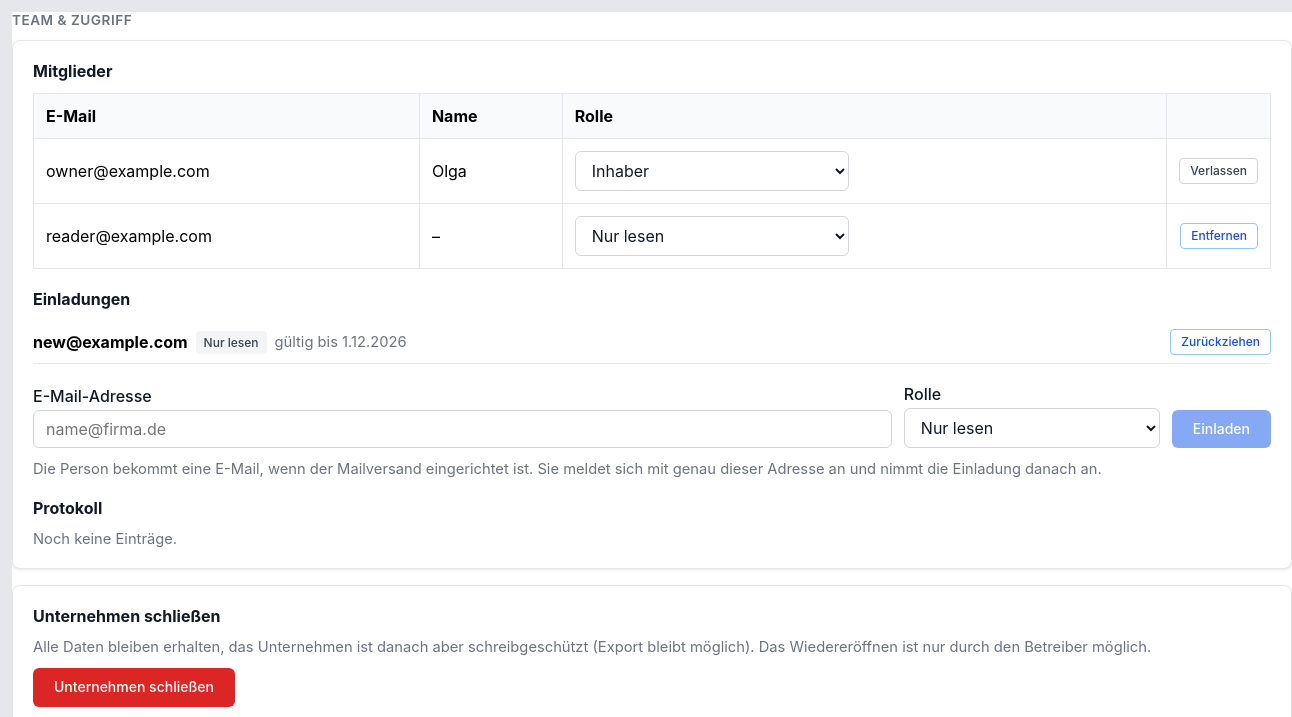
TeamSettings as an owner › confirms that the invitation mail went out
In the field labelled "E-Mail-Adresse": (462,429) [33, 410, 892, 448], type "bob@example.com"
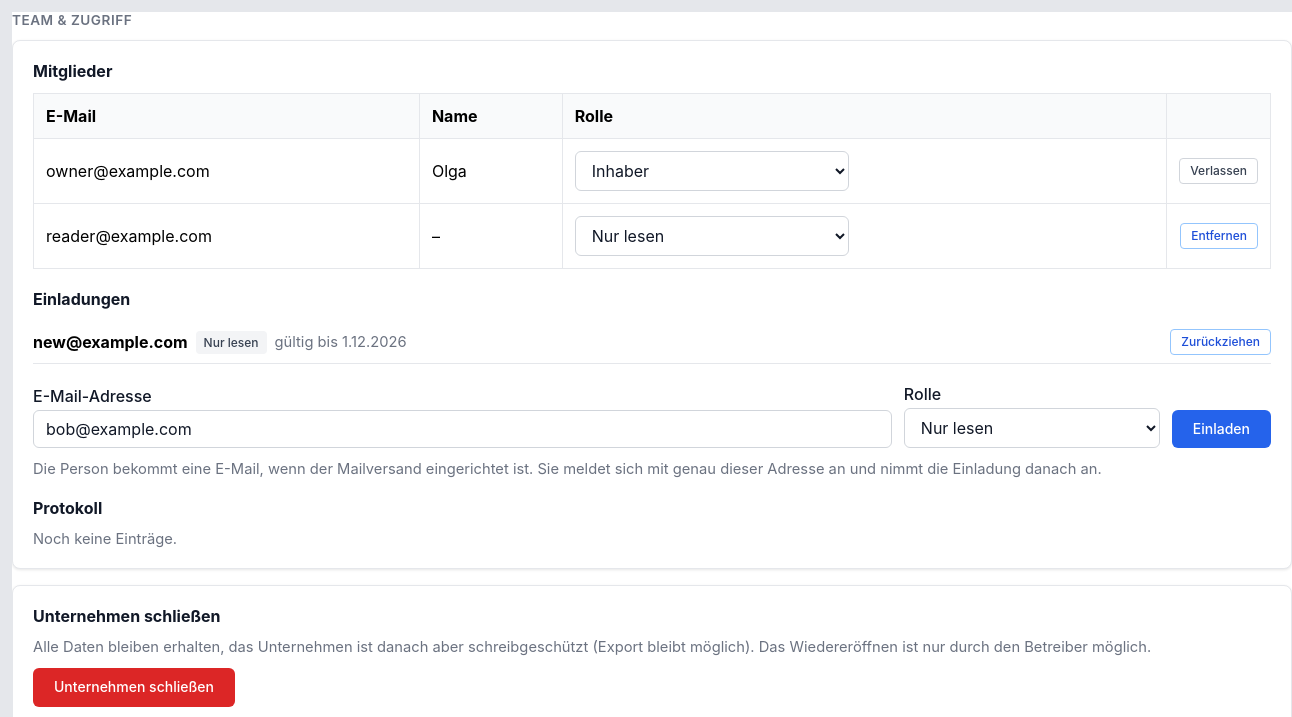
Submit the form with test id "invite-form", box [33, 384, 1271, 448]
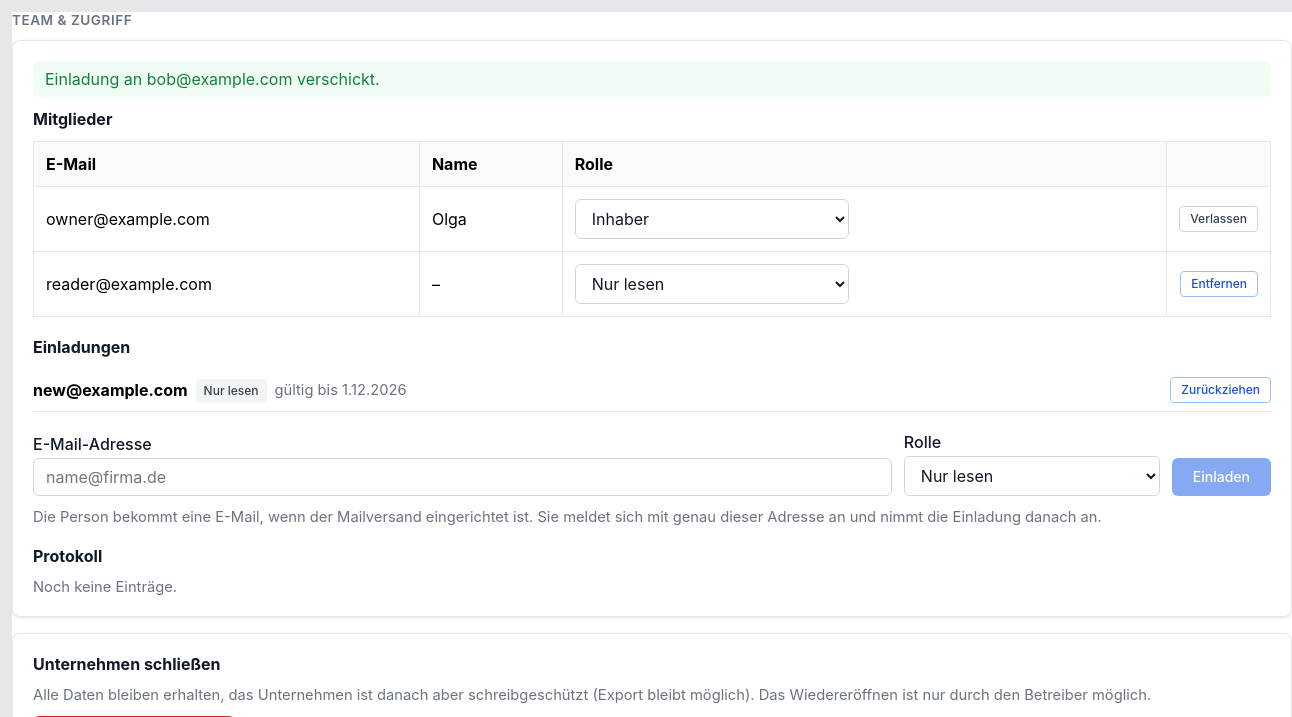
Expected: the message "Einladung an bob@example.com verschickt." is shown, [33, 61, 1271, 97]
Expected: the field labelled "E-Mail-Adresse" is empty, [33, 458, 892, 496]
